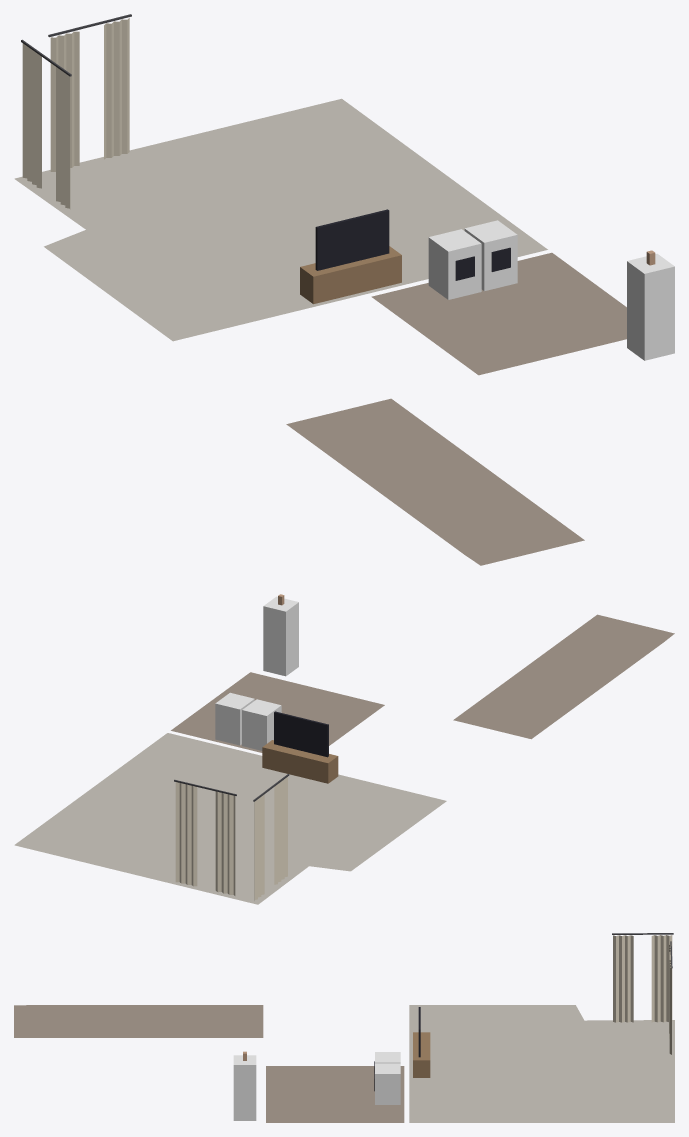
The model's file is fine-s0.glb.
3 views of the same model, one above another, from view 1: azimuth 30°, elevation 25°; view 2: azimuth 150°, elevation 25°; view 3: azimuth 270°, elevation 25° (orthographic). The views are drawn at different scales.
Parts seen in each view (by area): view 1: soft-s0, tv-console.000, water-heater.000, washer.000, washer.001; view 2: soft-s0, tv-console.000, water-heater.000, washer.000, washer.001; view 3: soft-s0, water-heater.000, washer.001, tv-console.000, washer.000.
Boxes of the visible parts, bbox=[...] form: soft-s0: bbox=[14, 14, 626, 565]; tv-console.000: bbox=[300, 209, 401, 304]; water-heater.000: bbox=[627, 250, 674, 360]; washer.000: bbox=[428, 229, 481, 299]; washer.001: bbox=[464, 220, 517, 291]; soft-s0: bbox=[14, 614, 674, 904]; tv-console.000: bbox=[262, 711, 338, 783]; water-heater.000: bbox=[263, 594, 298, 676]; washer.000: bbox=[242, 699, 281, 750]; washer.001: bbox=[215, 692, 254, 745]; soft-s0: bbox=[14, 933, 674, 1122]; water-heater.000: bbox=[233, 1051, 256, 1120]; washer.001: bbox=[374, 1063, 400, 1104]; tv-console.000: bbox=[413, 1007, 430, 1077]; washer.000: bbox=[374, 1052, 400, 1072].
Size of the model in its own units: 6.78 by 2.4 by 16.06.
